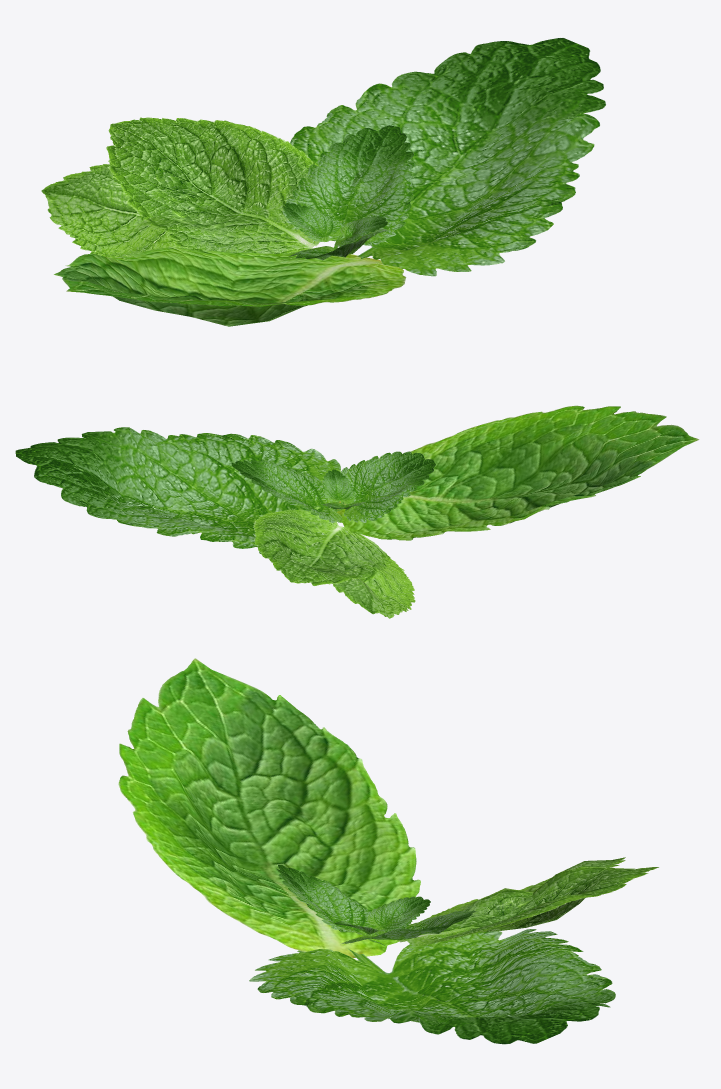
The model's file is mint leaves.fbx.
3 renders of one model, top to bottom at view 1: azimuth 30°, elevation 25°; view 2: azimuth 150°, elevation 25°; view 3: azimuth 270°, elevation 25°, orthographic. The views are drawn at different scales.
Parts seen in each view (by area): view 1: myata2_2, myata, myata3, myata2, myata2_4, myata2_1; view 2: myata3, myata2_2, myata, myata2_1, myata2, myata2_4; view 3: myata3, myata2_2, myata, myata2_1, myata2_4, myata2.
Part boxes in pixels (x1,y1,x2,y2): myata2_2: [285, 38, 605, 276]; myata: [41, 117, 341, 257]; myata3: [54, 246, 406, 326]; myata2: [282, 125, 414, 250]; myata2_4: [283, 203, 387, 246]; myata2_1: [288, 228, 387, 260]; myata3: [336, 405, 699, 540]; myata2_2: [15, 427, 340, 553]; myata: [253, 506, 415, 618]; myata2_1: [335, 451, 435, 522]; myata2: [231, 460, 351, 522]; myata2_4: [322, 469, 365, 509]; myata3: [118, 658, 420, 957]; myata2_2: [249, 929, 615, 1044]; myata: [396, 857, 658, 946]; myata2_1: [276, 865, 385, 945]; myata2_4: [334, 896, 430, 935]; myata2: [341, 910, 476, 943].
Size of the model in its own units: 986 by 206 by 792.
Materials: 3 (3 with a texture image).
